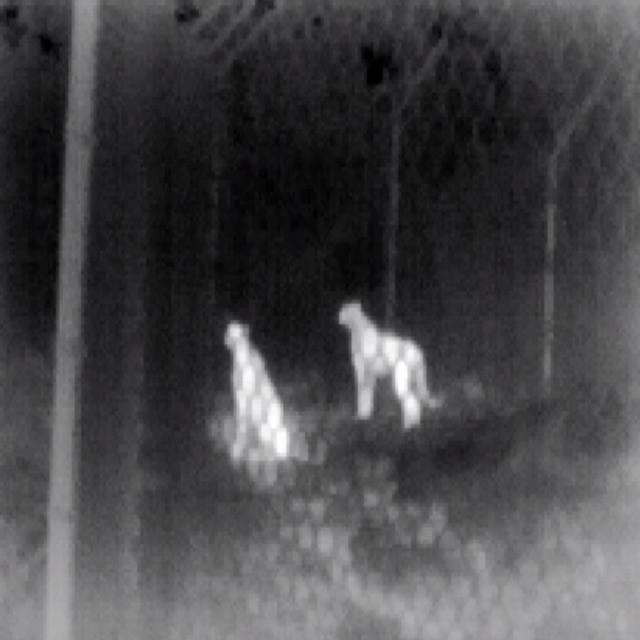cheetah: (339, 302, 441, 430), (226, 323, 288, 464)
